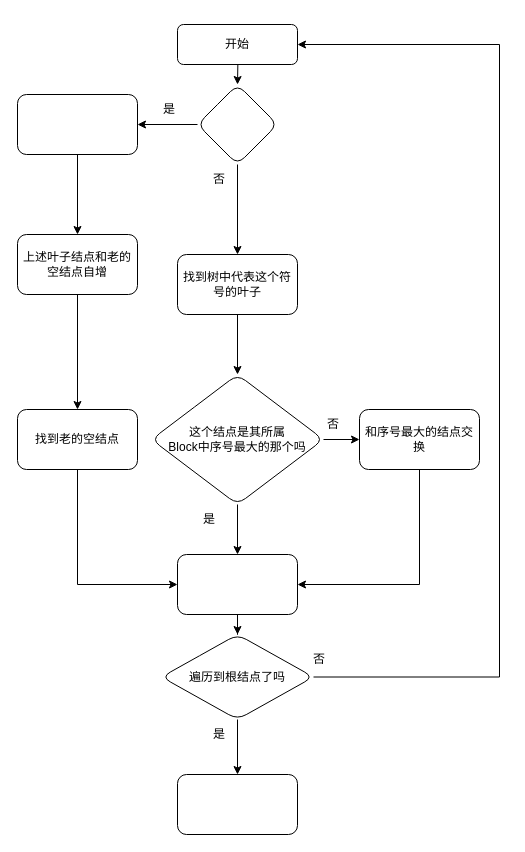
Image size: 525x852. Some labels were removed from this diagram. Each missing label, with the box of its shape:
新的符号？: (196, 84, 278, 164)
权值自增: (176, 554, 298, 614)
空结点下方接新的空结点和外节点（都成为叶子结点）: (16, 94, 138, 154)
结束: (176, 774, 298, 834)
